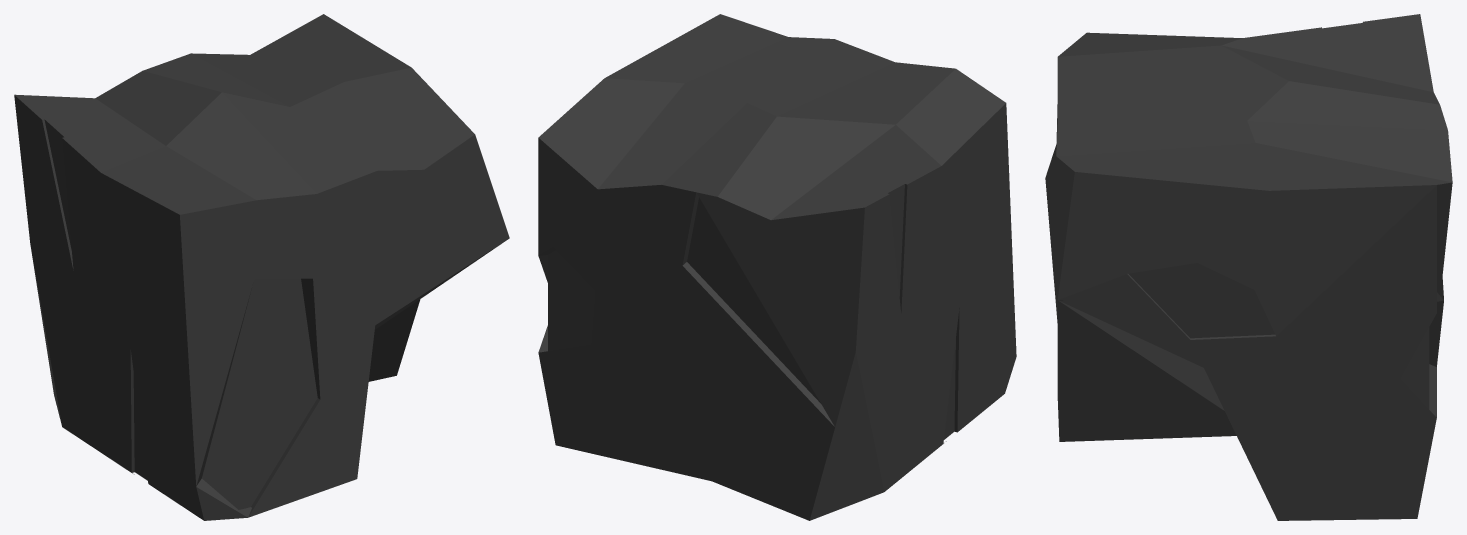
The model's file is Rock_8a.fbx.
3 views of the same model, side by side, from view 1: azimuth 30°, elevation 25°; view 2: azimuth 150°, elevation 25°; view 3: azimuth 270°, elevation 25° (orthographic). The views are drawn at different scales.
Visible parts, largest first — view 1: Rock_8a; view 2: Rock_8a; view 3: Rock_8a.
Part boxes in pixels (left/top/right/bottom): Rock_8a: left=14, top=14, right=509, bottom=520; Rock_8a: left=538, top=14, right=1016, bottom=520; Rock_8a: left=1045, top=14, right=1452, bottom=520.
Bounding box in the file's own units: 1568 × 1493 × 1542.
